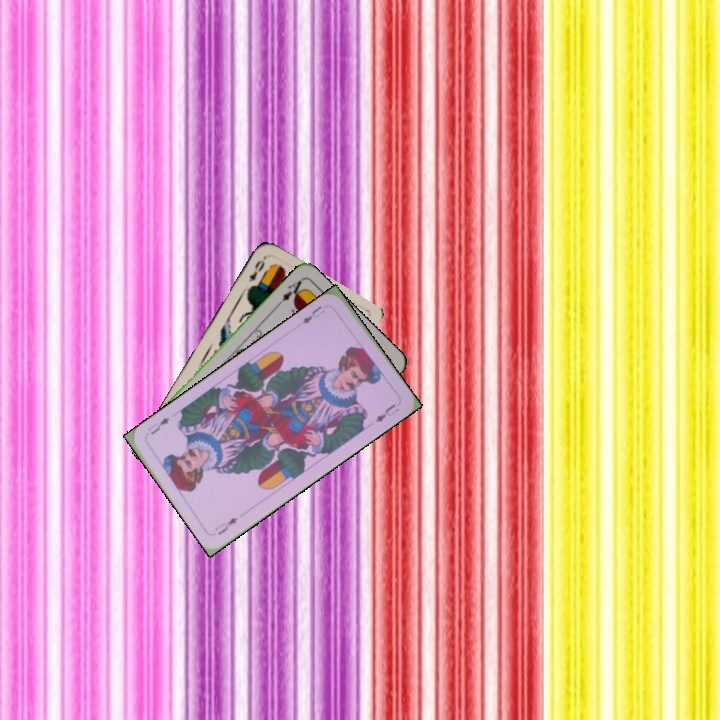EA: (273, 275, 307, 308)
EO: (244, 253, 268, 284)
EU: (298, 301, 328, 327), (211, 513, 241, 538)
